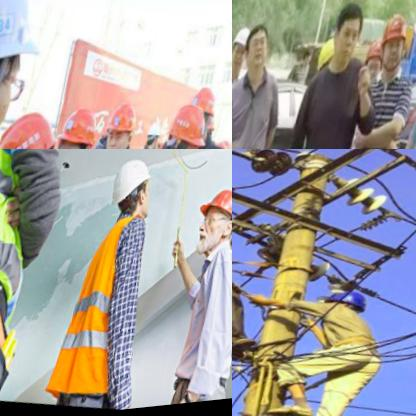helmet: (0, 0, 63, 149), (101, 149, 161, 239), (186, 181, 232, 271), (0, 105, 65, 149), (375, 13, 414, 82), (160, 101, 214, 149), (51, 102, 106, 149), (323, 287, 375, 334), (101, 98, 142, 149), (189, 86, 221, 134), (360, 41, 390, 90), (232, 24, 253, 86), (313, 38, 340, 84), (143, 124, 164, 149)
